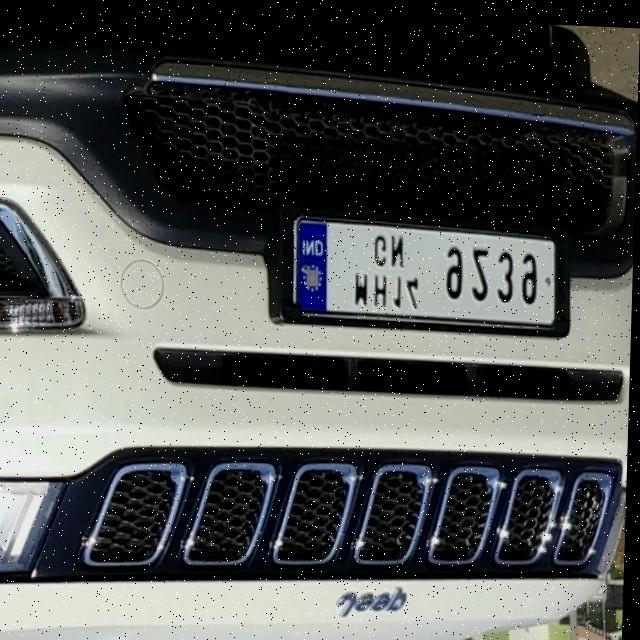plate: (269, 208, 575, 336)
